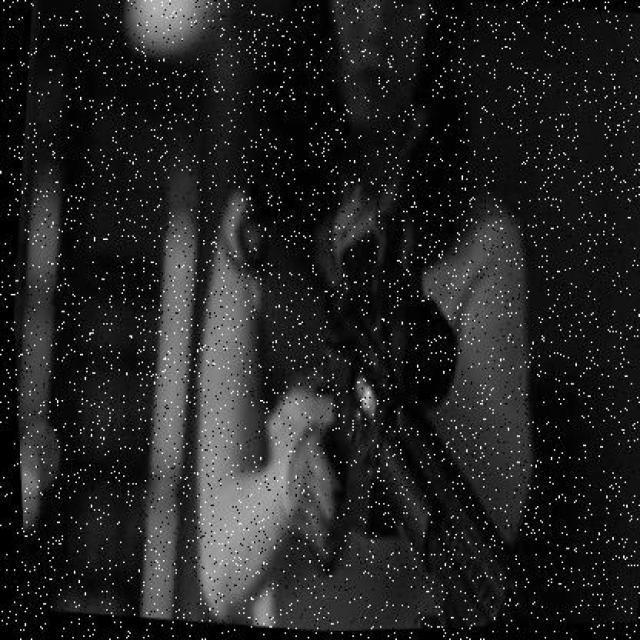weapon: (248, 213, 552, 631)
